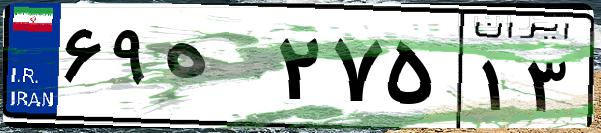1: (475, 38, 525, 113)
2: (270, 28, 330, 110)
3: (525, 38, 570, 115)
5: (385, 28, 445, 110)
6: (57, 26, 110, 100)
7: (330, 28, 385, 110)
9: (110, 28, 158, 98)
ه: (158, 20, 270, 120)
